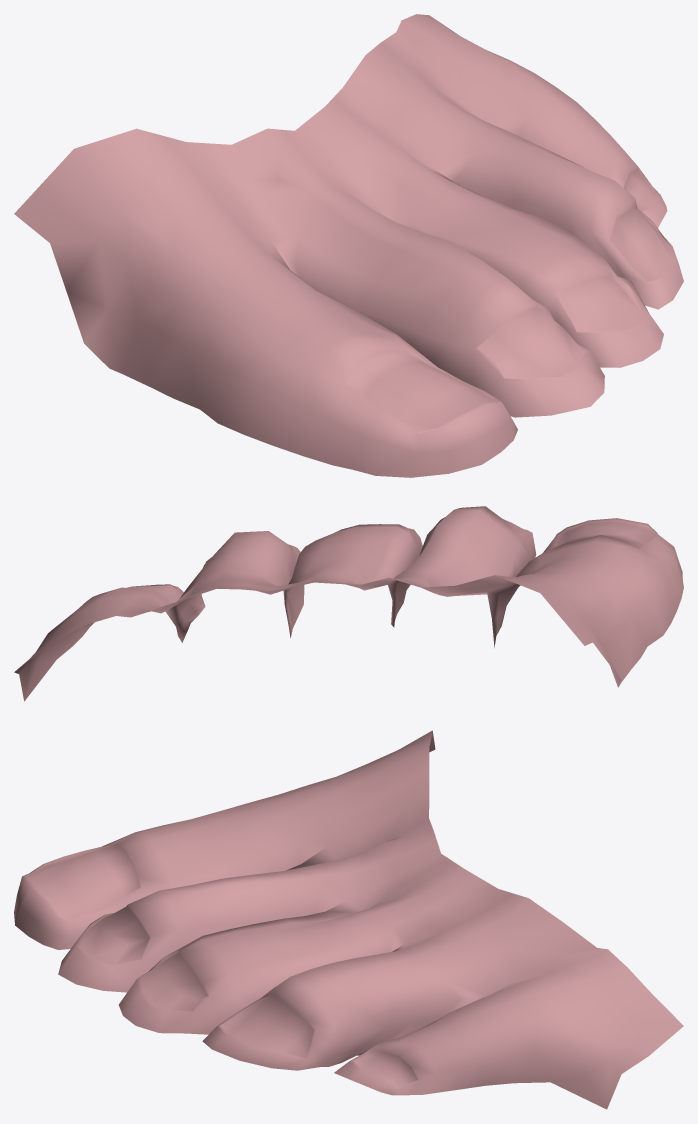
3 renders of one model, top to bottom at view 1: azimuth 30°, elevation 25°; view 2: azimuth 150°, elevation 25°; view 3: azimuth 270°, elevation 25°, orthographic. The views are drawn at different scales.
Visible parts, largest first — view 1: ZA_6da838fdf3bbc73d; view 2: ZA_6da838fdf3bbc73d; view 3: ZA_6da838fdf3bbc73d.
Boxes of the visible parts, x1=… form: ZA_6da838fdf3bbc73d: x1=14, y1=14, x2=683, y2=477; ZA_6da838fdf3bbc73d: x1=14, y1=506, x2=683, y2=701; ZA_6da838fdf3bbc73d: x1=14, y1=730, x2=683, y2=1109.
Bounding box in the file's own units: 0.0865 × 0.0267 × 0.0983.
